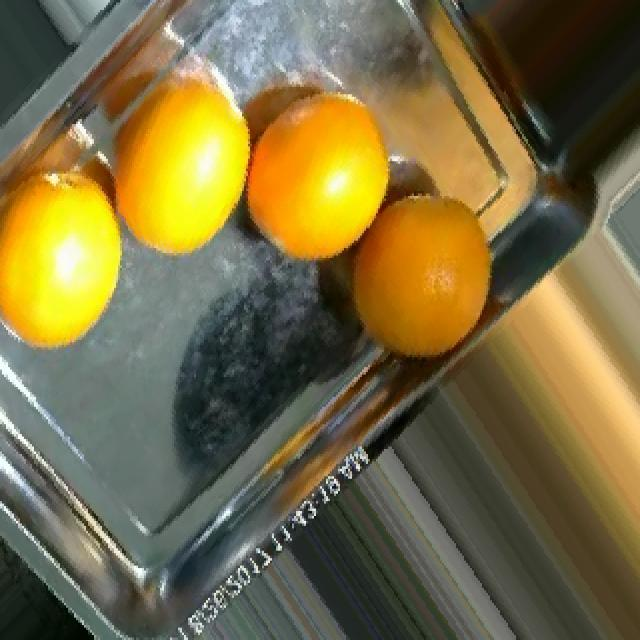Fruit: (0, 163, 150, 374), (0, 511, 116, 640)
